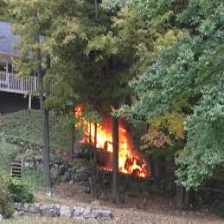fire: (71, 106, 154, 180)
